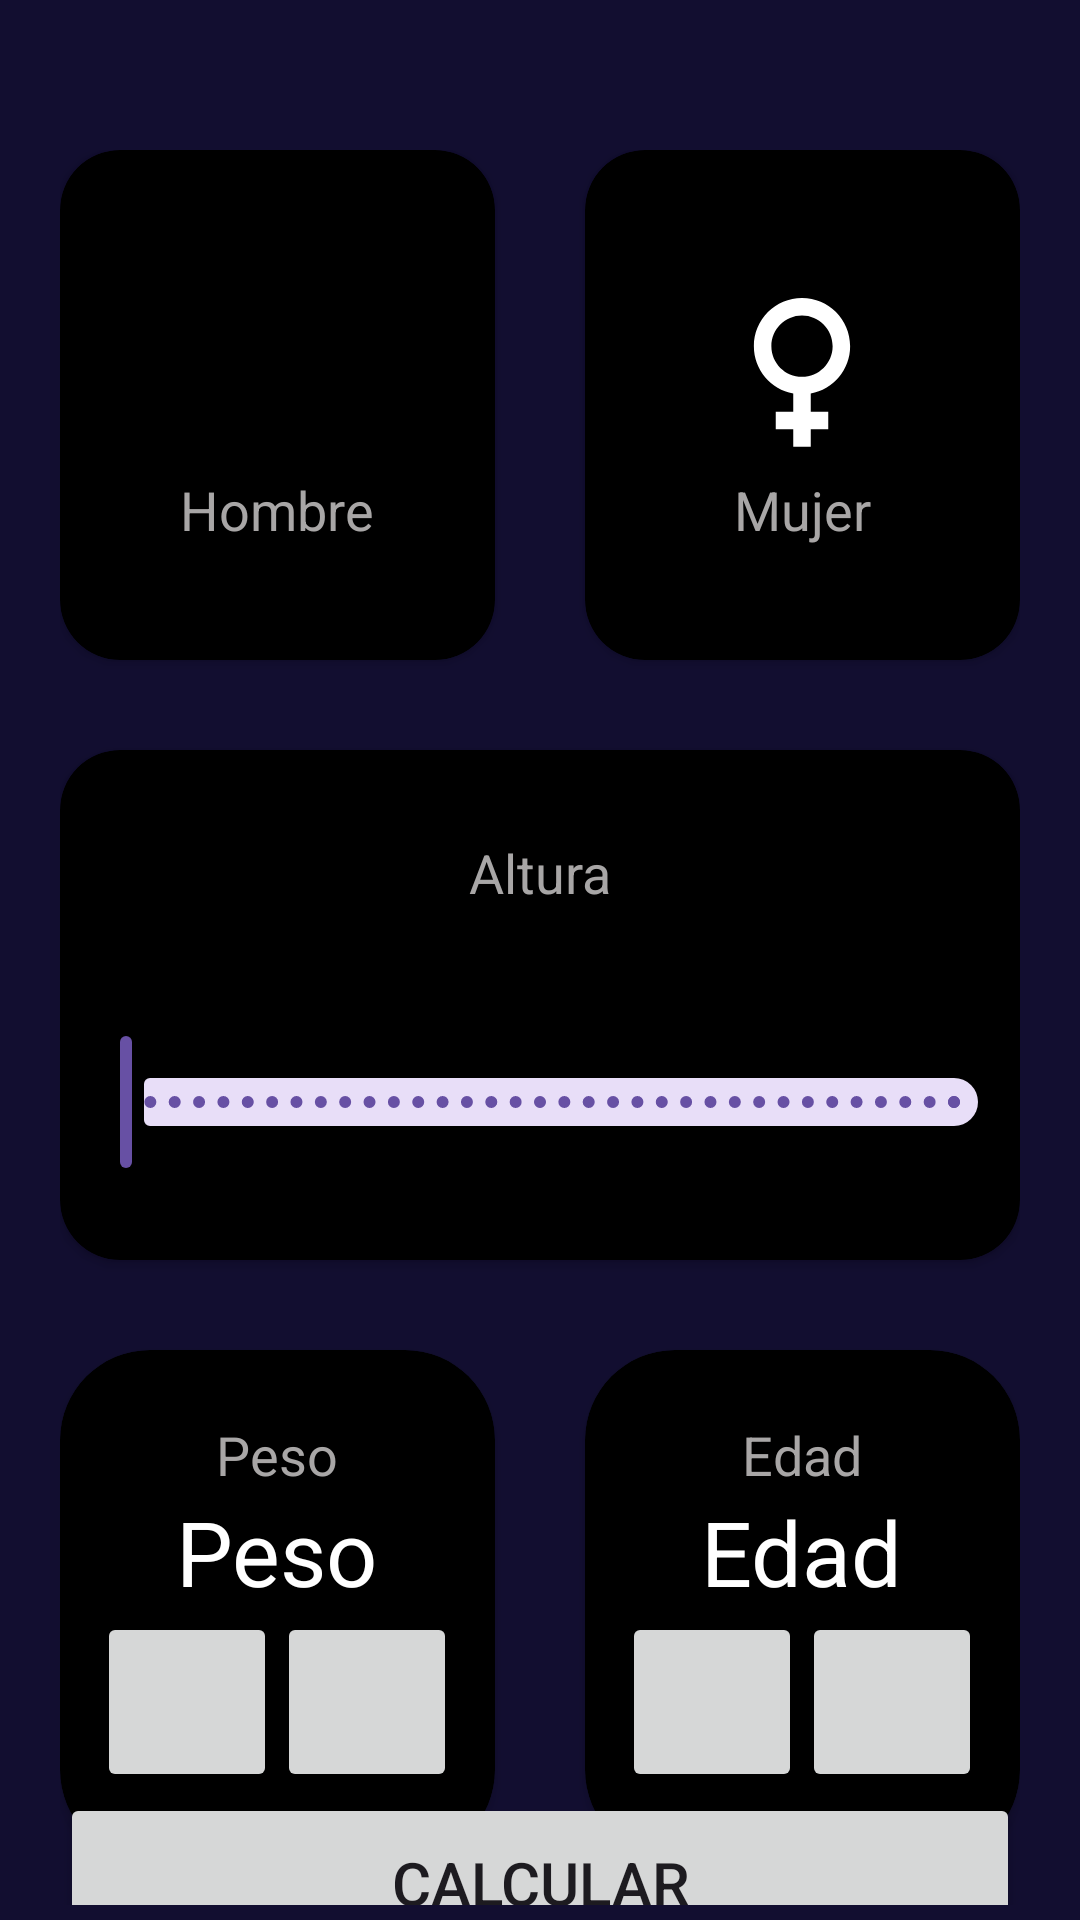

Named icons in this screenshot (1080px x 1920px) and their centers, [x,y]:
female: [802,372]
